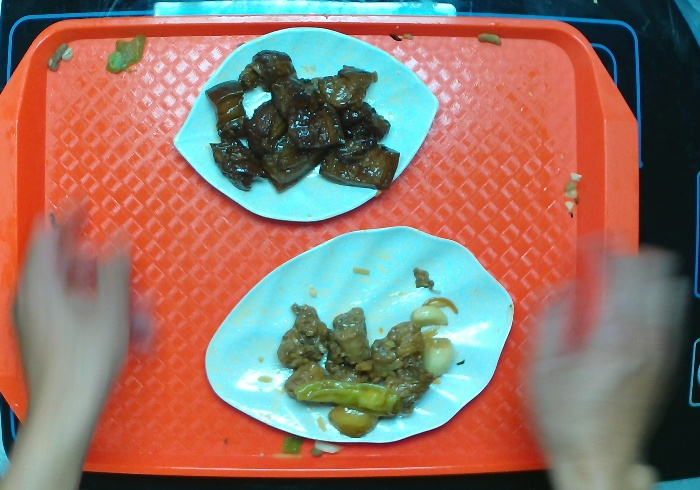RJxy-Bai_Ye_Pan: (199, 222, 517, 447)
RJxy-Da_Du_Pan: (168, 24, 443, 224)
